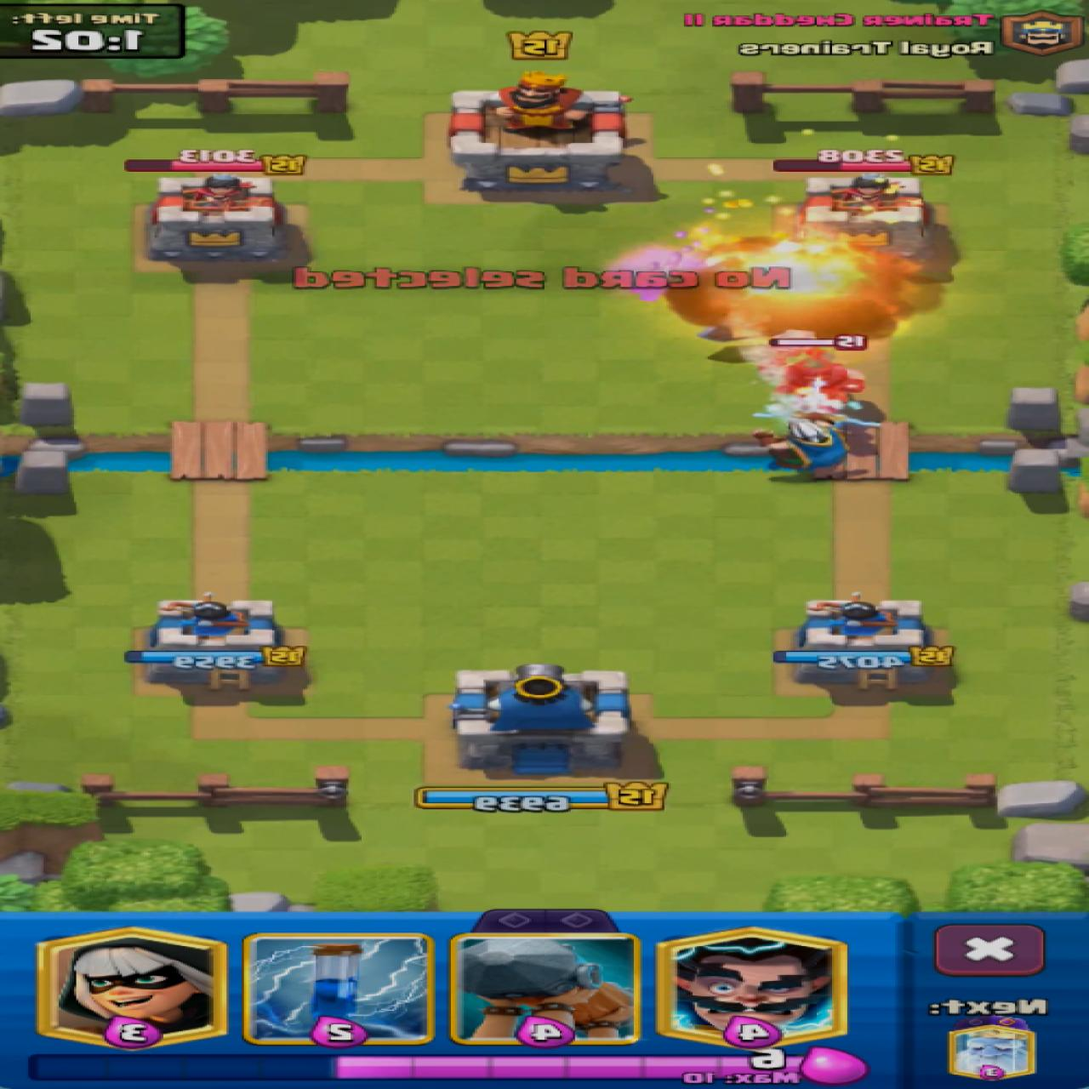Enemy-DarkPrince-Charge: (762, 349, 865, 403)
Enemy-KingTower: (449, 71, 627, 193)
Enemy-PrincessTower: (148, 173, 296, 266), (799, 174, 930, 255)
